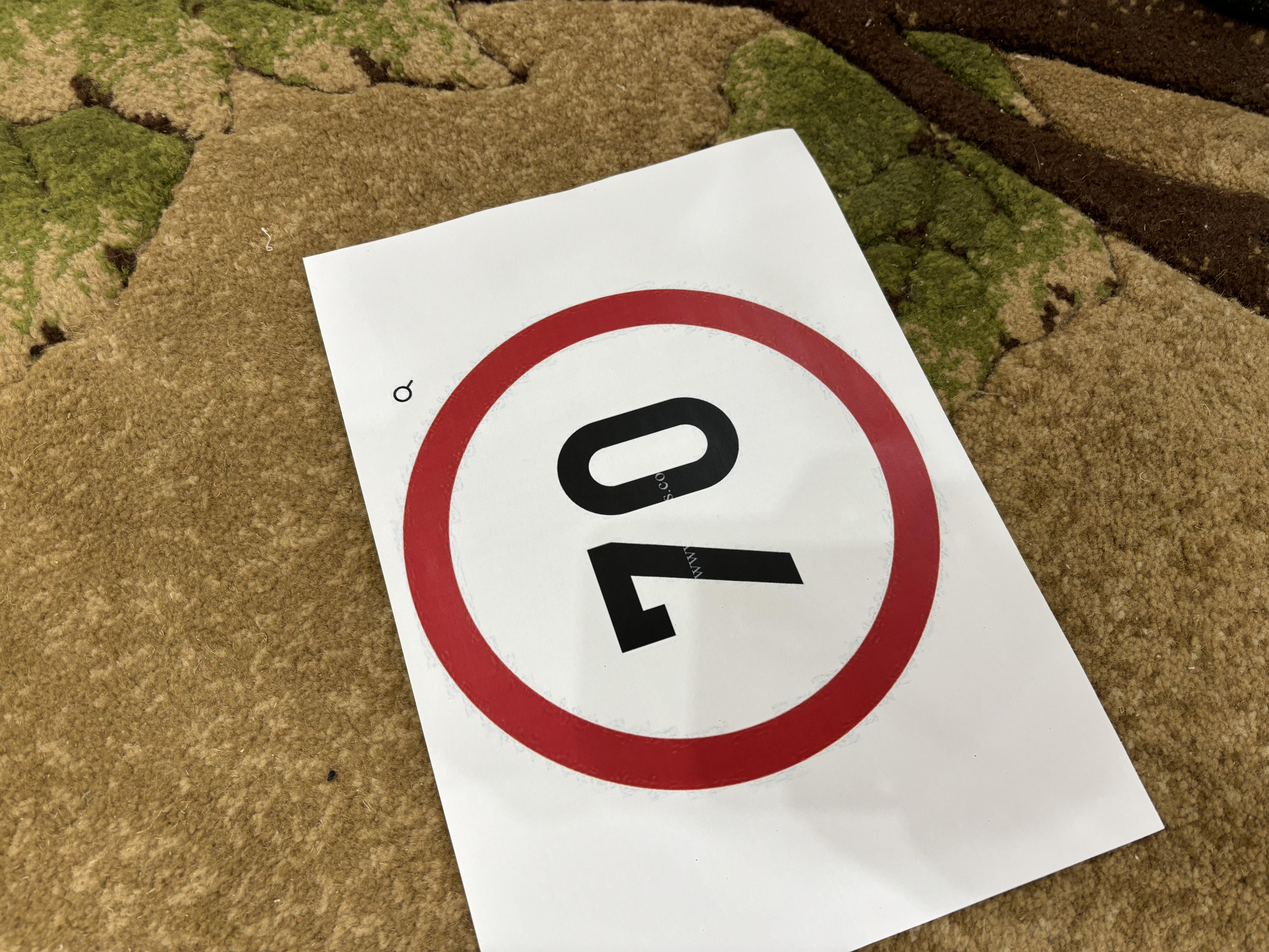70-Speed: (389, 283, 946, 796)
